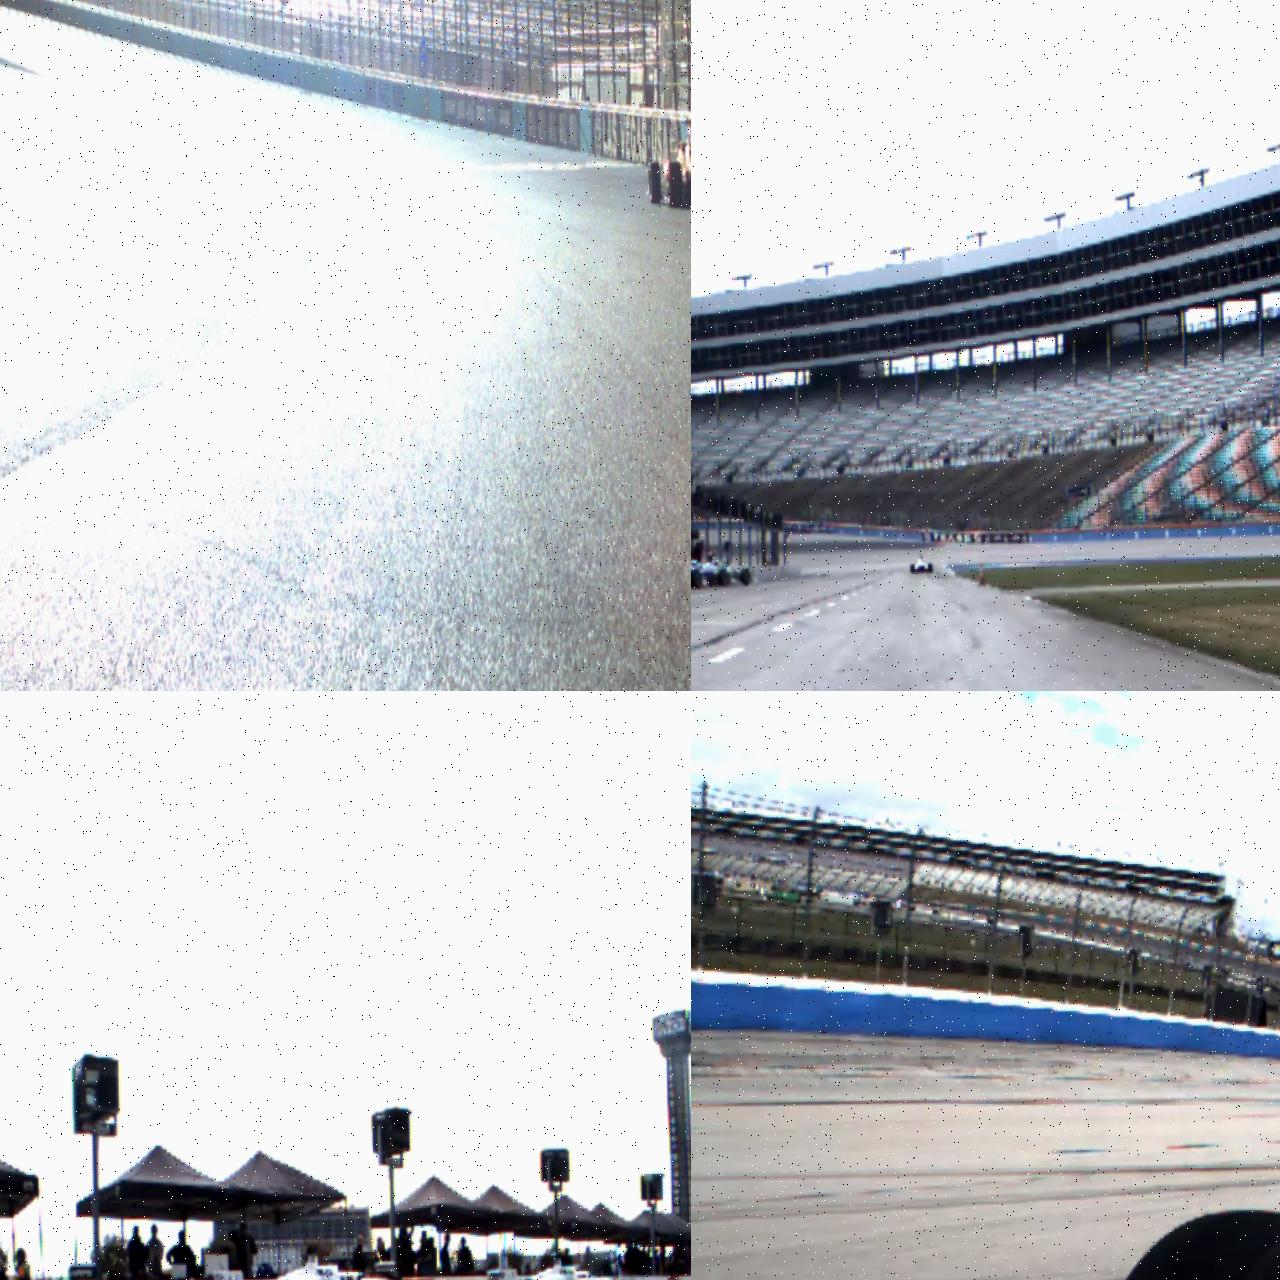AV: (229, 1240, 457, 1280), (491, 1251, 658, 1280), (644, 117, 692, 209), (910, 554, 933, 574)
Wheel: (666, 162, 682, 207), (648, 161, 661, 204), (740, 568, 751, 586), (719, 568, 729, 587), (692, 568, 700, 588), (910, 564, 915, 574), (928, 563, 933, 572)
